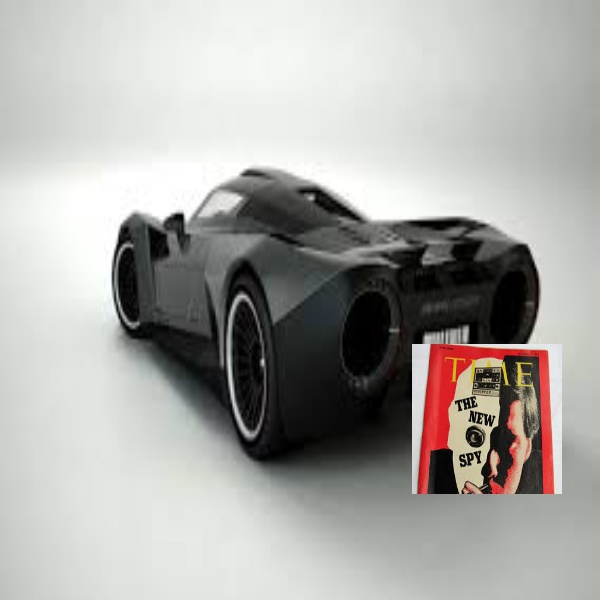time_cover: (406, 329, 552, 493)
